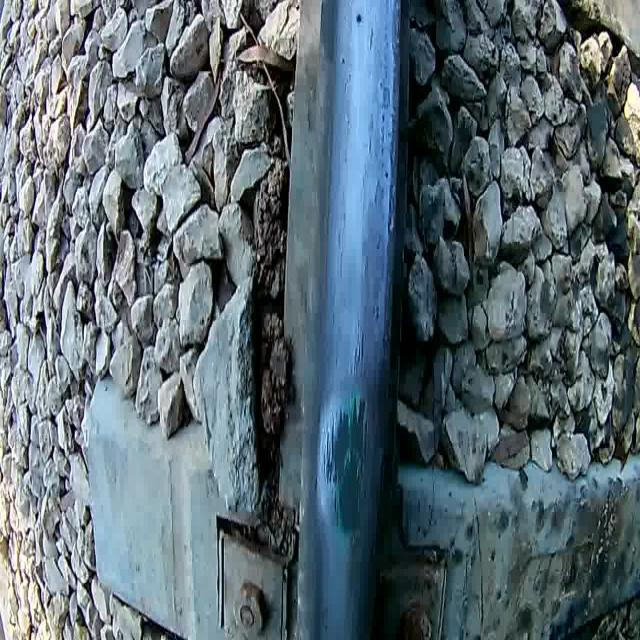Flakings: (372, 0, 406, 351)
Grooves: (344, 310, 372, 382), (319, 408, 338, 493)
Spallings: (333, 43, 351, 77), (348, 4, 368, 31)
Squats: (313, 388, 383, 546)
